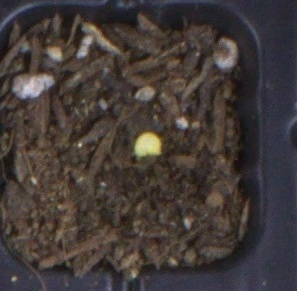chilli seed: (133, 132, 162, 158)
